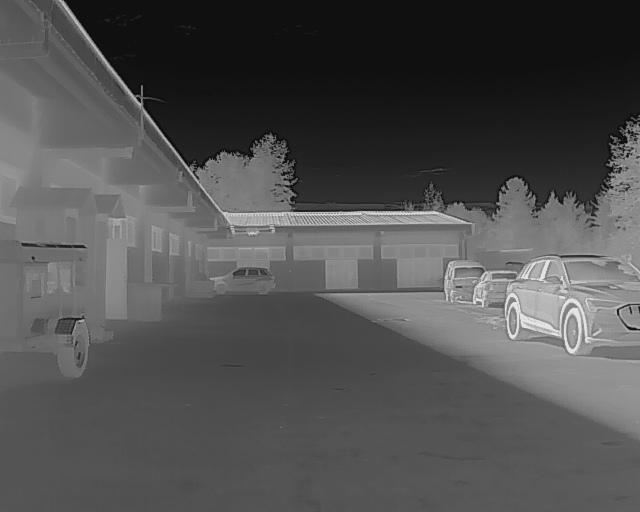drone: (218, 213, 282, 249)
